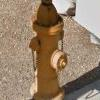Hydrant: (21, 0, 74, 100)
